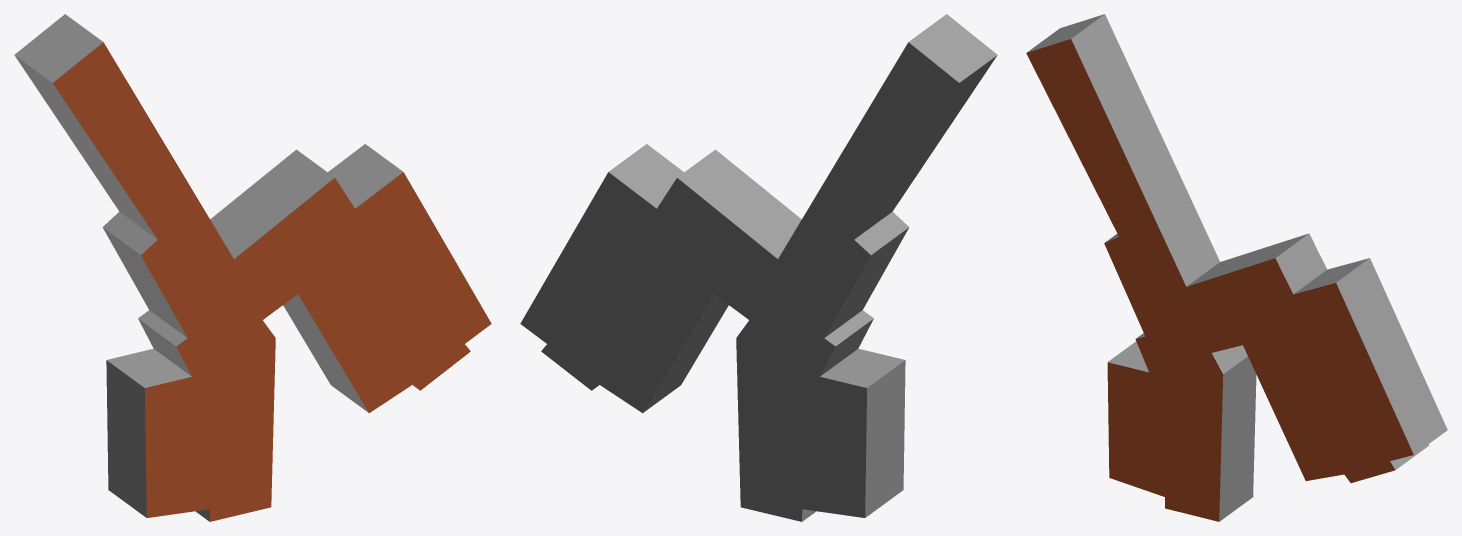
The model's file is construction_2868_assumed_A_Casa_h6m.obj.
The picture shows the model from 3 angles, left to right: view 1: azimuth 30°, elevation 25°; view 2: azimuth 150°, elevation 25°; view 3: azimuth 330°, elevation 25°; orthographic projection. The views are drawn at different scales.
Visible parts, largest first — view 1: construction_2868_assumed_A_Casa; view 2: construction_2868_assumed_A_Casa; view 3: construction_2868_assumed_A_Casa.
Part boxes in pixels (x1=…): construction_2868_assumed_A_Casa: x1=14, y1=14, x2=491, y2=521; construction_2868_assumed_A_Casa: x1=520, y1=14, x2=997, y2=521; construction_2868_assumed_A_Casa: x1=1026, y1=14, x2=1447, y2=521.
Size of the model in its own units: 39.59 by 43.61 by 6.
